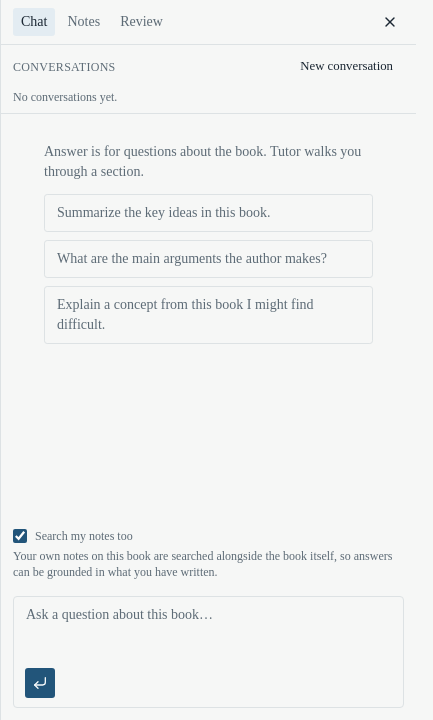
Test: a first message that does not land › keeps the conversation when the turn fails
Check: the text "No conversations yet." is shown, box [13,90,117,104]
Type "a question that will be throttled" into the text box with placeholder "Ask a question about this book…".
click(208, 629); type("a question that will be throttled")  # box [14,597,403,661]
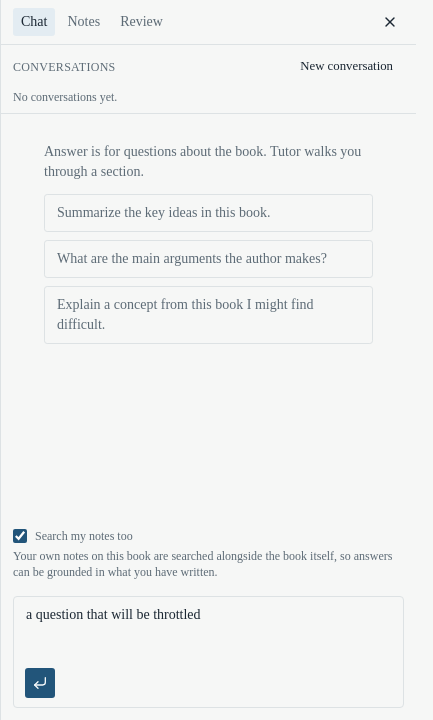
Click the button named "Submit".
click(40, 683)  # box [24,667,56,699]
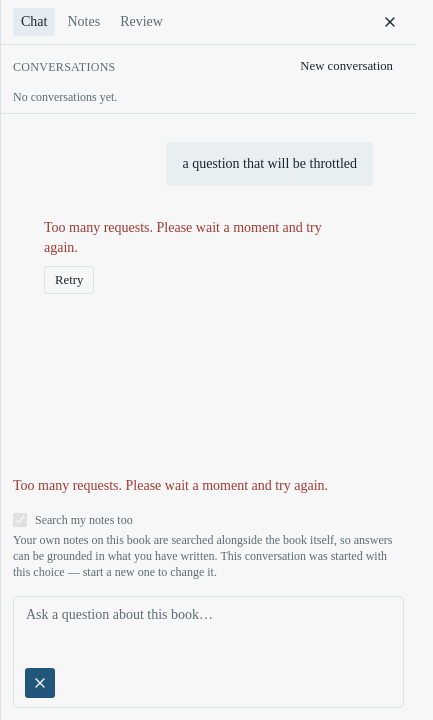
Check: the message shows "Too many requests", box [13,478,328,493]
